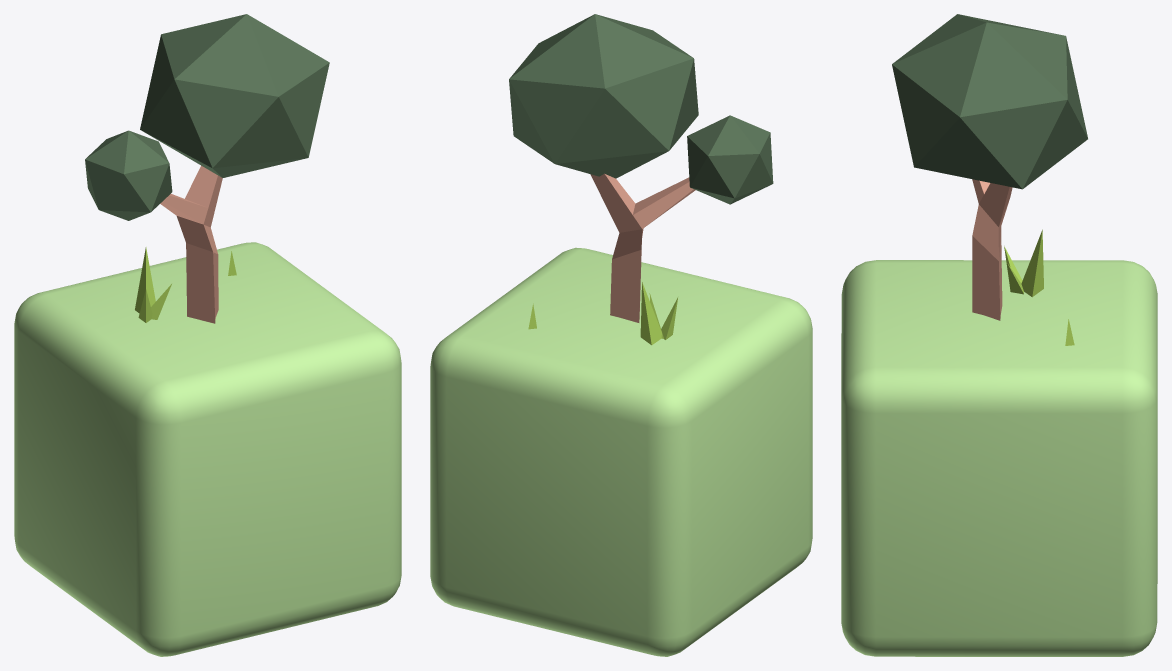
The model's file is tree1.fbx.
The picture shows the model from 3 angles, left to right: view 1: azimuth 30°, elevation 25°; view 2: azimuth 150°, elevation 25°; view 3: azimuth 270°, elevation 25°; orthographic projection. The views are drawn at different scales.
Parts seen in each view (by area): view 1: Cube.027; view 2: Cube.027; view 3: Cube.027.
Part boxes in pixels (x1,y1,x2,y2): Cube.027: (14, 14, 401, 656); Cube.027: (430, 14, 812, 656); Cube.027: (841, 14, 1157, 656).
Bounding box in the file's own units: 201 × 416 × 200.
